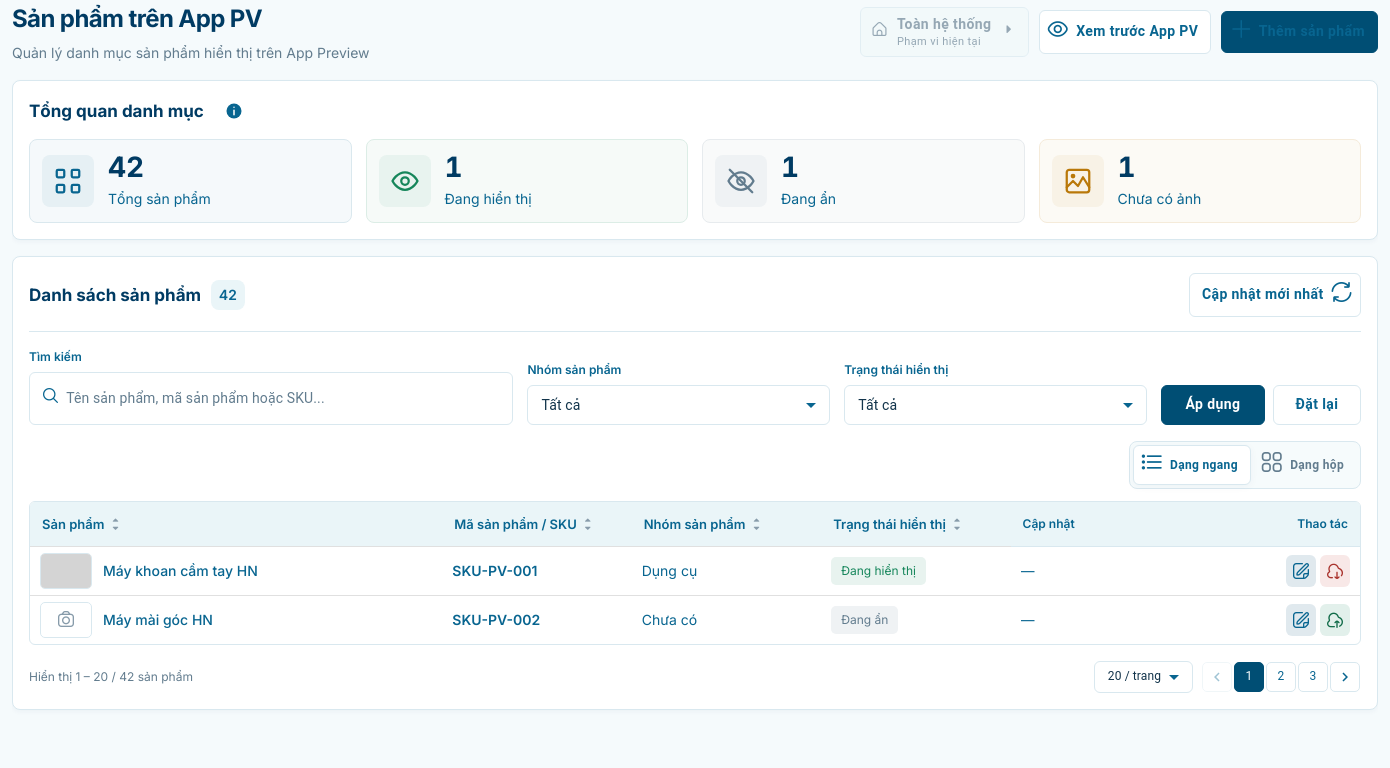
it: MST-PV-01 · catalog interactions › distinguishes the server total from visibility and image counts on the loaded page
Expected: the table is shown, [30,502,1360,644]
Expected: the text "42" below "Tổng quan danh mục" is shown, [108,150,144,184]
Hover over the button named "Thông tin tổng quan danh mục" at (234, 111), box [220,97,248,125]
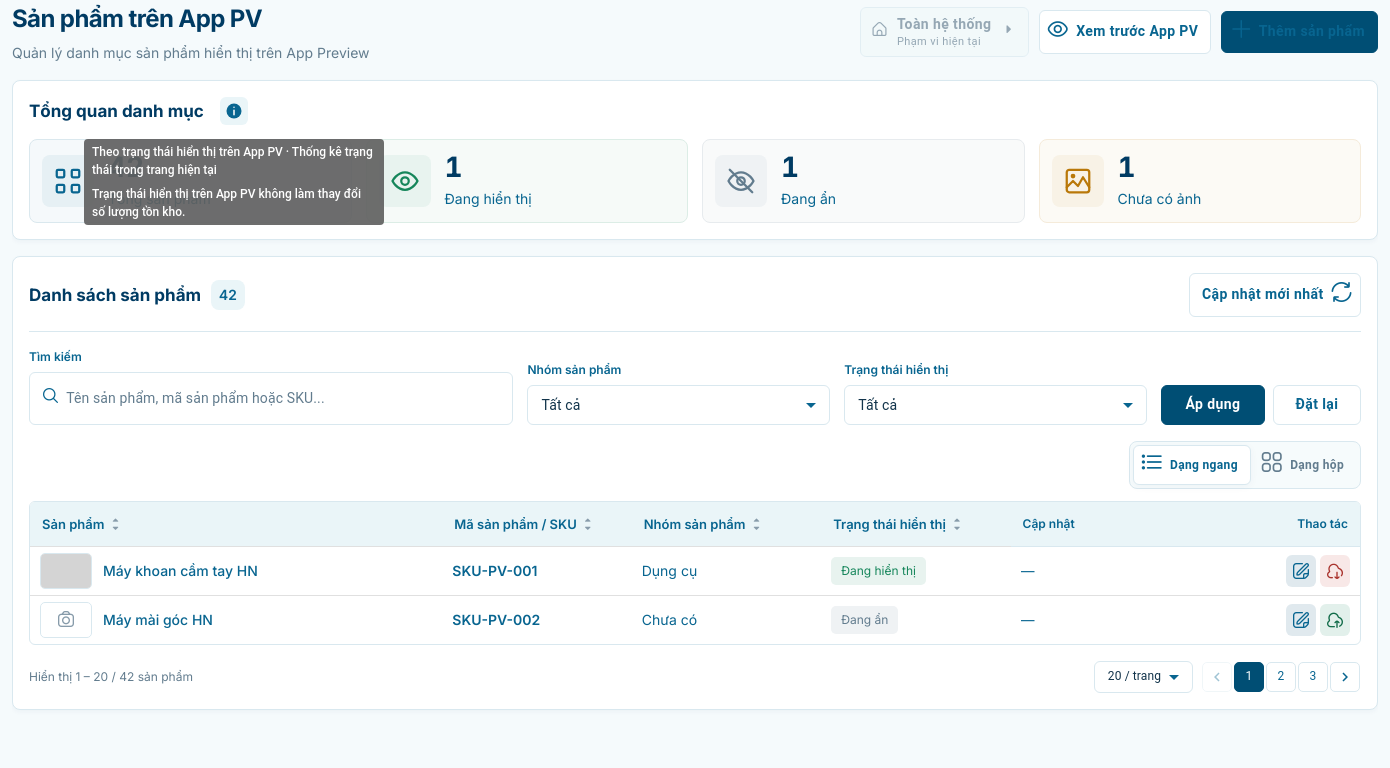
Now the text "Thống kê trạng thái trong trang hiện tại" is shown, box [92,145,373,177]
Now the text "không làm thay đổi số lượng tồn kho" is shown, box [92,187,361,219]
Move the pointer off the button named "Thông tin tổng quan danh mục", box [220,97,248,125]
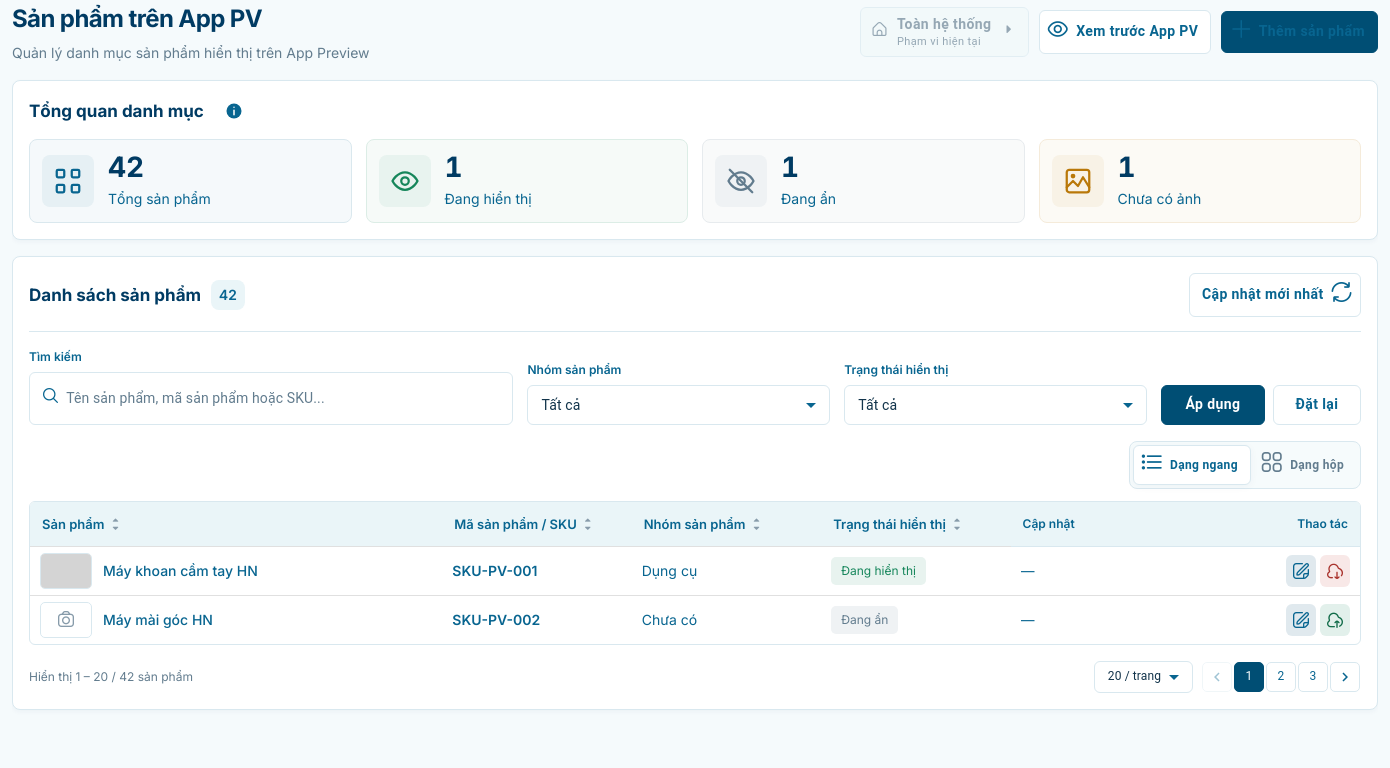
Now the text "Thống kê trạng thái trong trang hiện tại" is gone
Click the button named "Thông tin tổng quan danh mục". click: (234, 111)
box: [220,97,248,125]
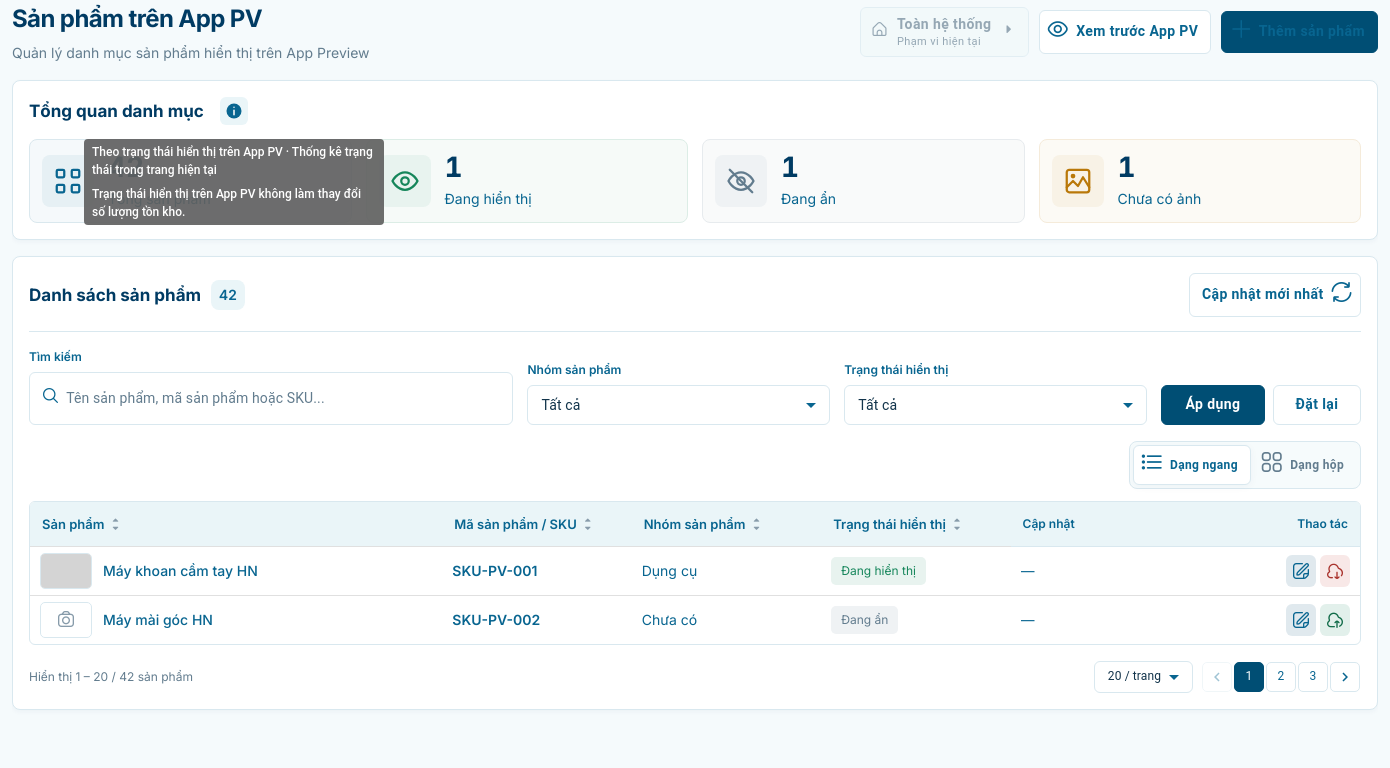
Now the text "không làm thay đổi số lượng tồn kho" is shown, box [92,187,361,219]
Press the mouse on the element that starts with "Sản phẩm trên App PV" at (695, 384), box [12,0,1378,767]
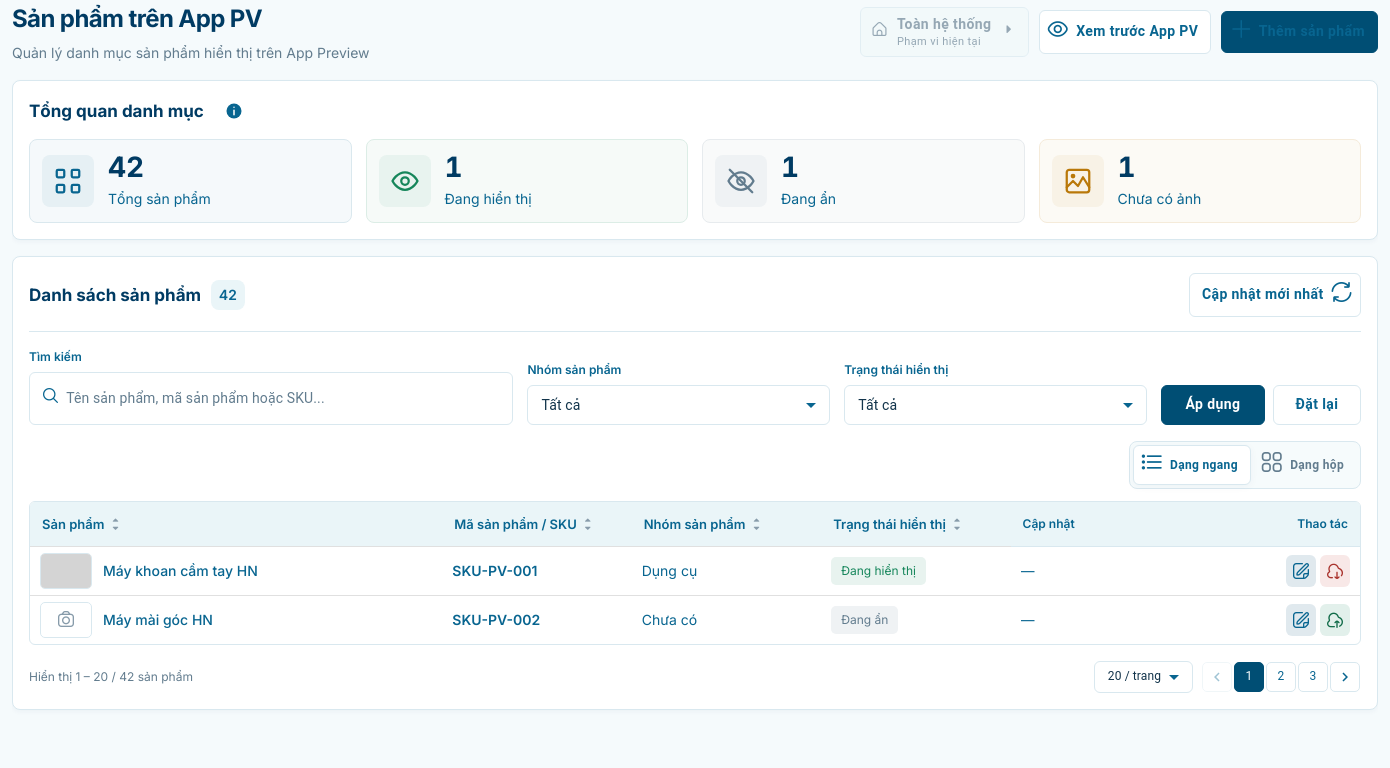
Press the mouse on the 1st dropdown labelled "Tất cả" at (561, 405), box [541,397,580,413]
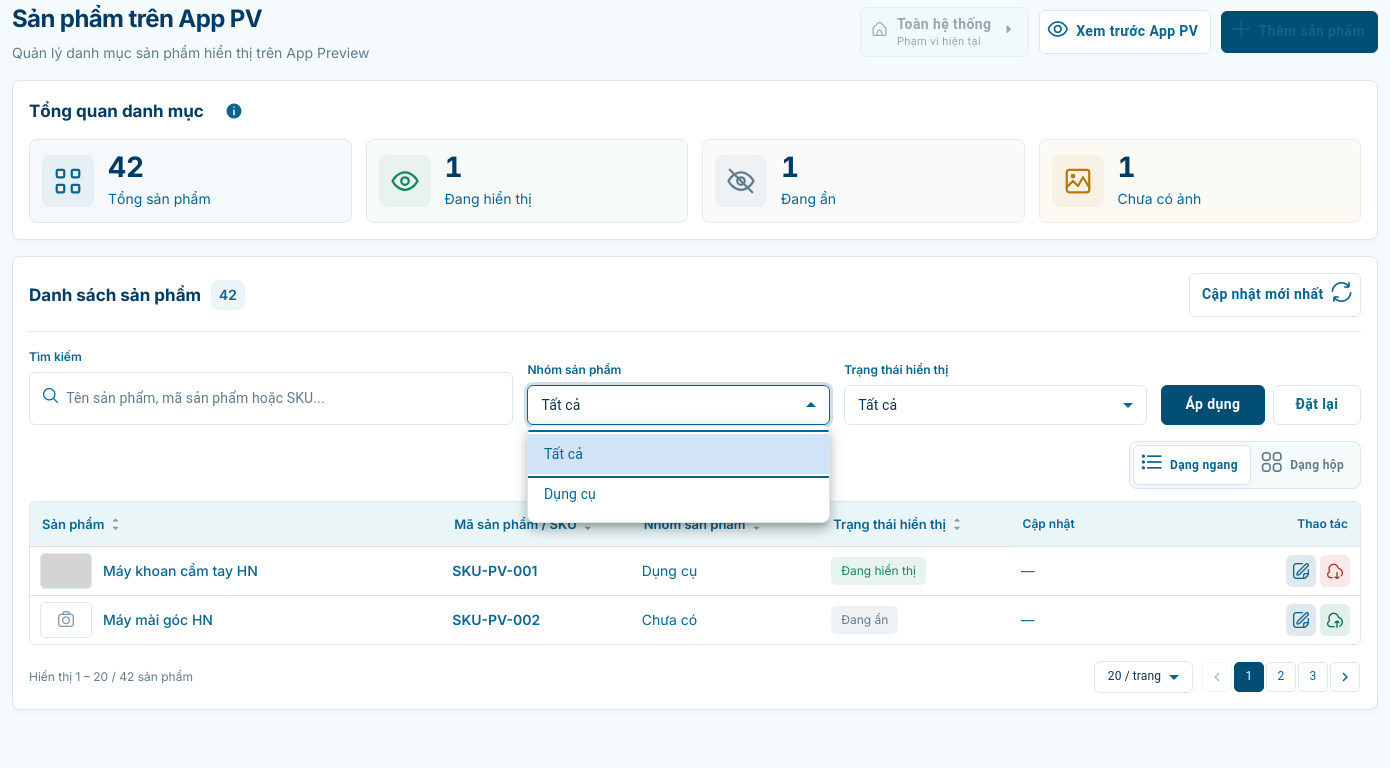
Click the option "Dụng cụ". click: (570, 494)
box: [544,486,596,502]
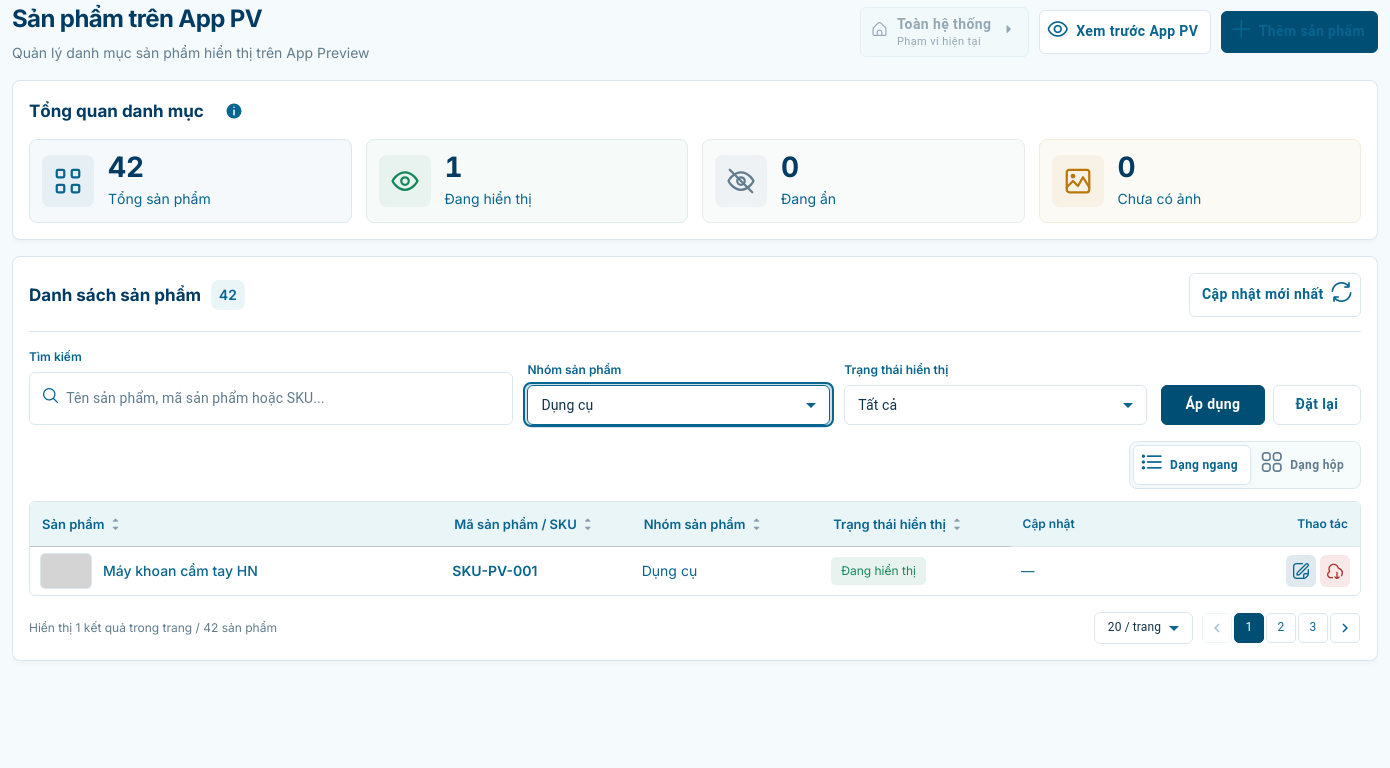
Expected: the text "42" below "Tổng quan danh mục" is shown, [108,150,144,184]
Now the 1st text "0" is shown, box [781,150,799,184]
Now the 2nd text "0" is shown, box [1118,150,1136,184]
